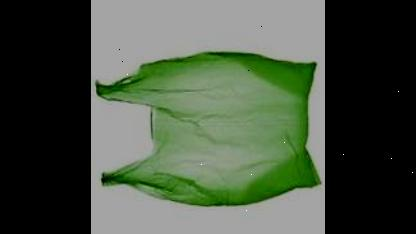Others: (96, 52, 319, 205)
